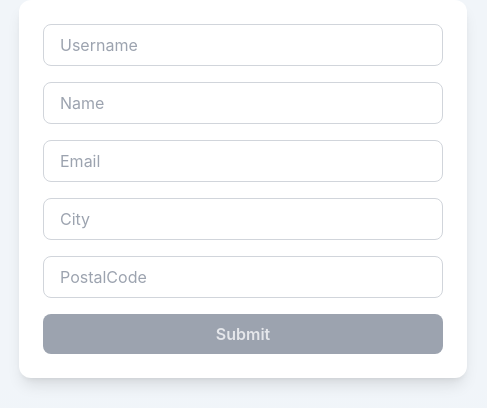
Scenario: RegistrationForm - Tests Complets › submit button enabled when form is valid
Type "Jean Dupont" into the field with placeholder "Name".
click(243, 103); type("Jean Dupont")  # box [43, 82, 443, 124]
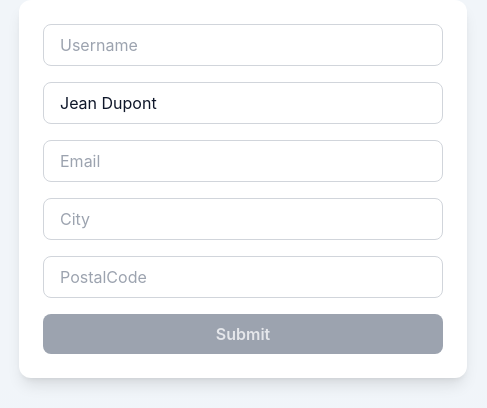
Type "jdupont2" into the field with placeholder "Username".
click(243, 45); type("jdupont2")  # box [43, 24, 443, 66]
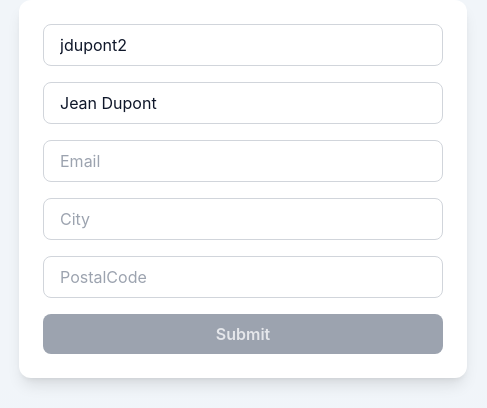
Type "jean@test.com" into the field with placeholder "Email".
click(243, 161); type("jean@test.com")  # box [43, 140, 443, 182]
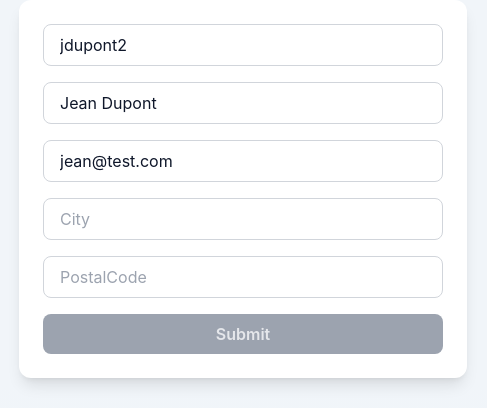
Type "Paris" into the field with placeholder "City".
click(243, 219); type("Paris")  # box [43, 198, 443, 240]
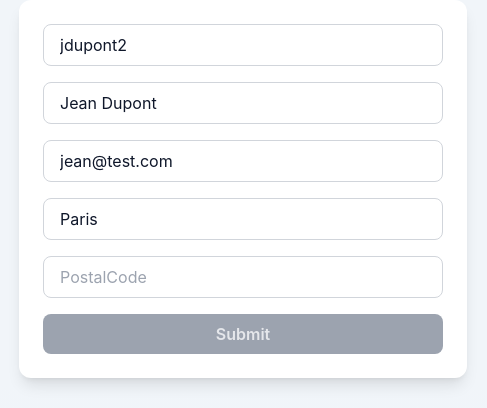
Type "75001" into the field with placeholder "PostalCode".
click(243, 277); type("75001")  # box [43, 256, 443, 298]
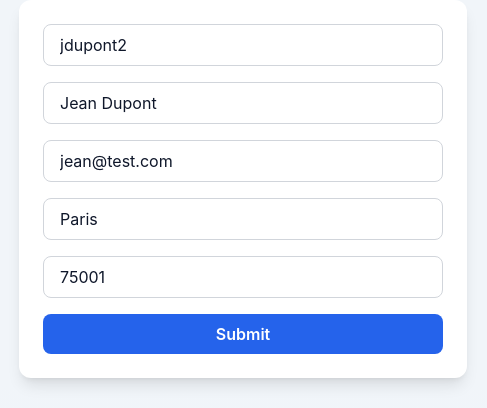
Check: the button "Submit" is enabled, box [43, 314, 443, 354]
